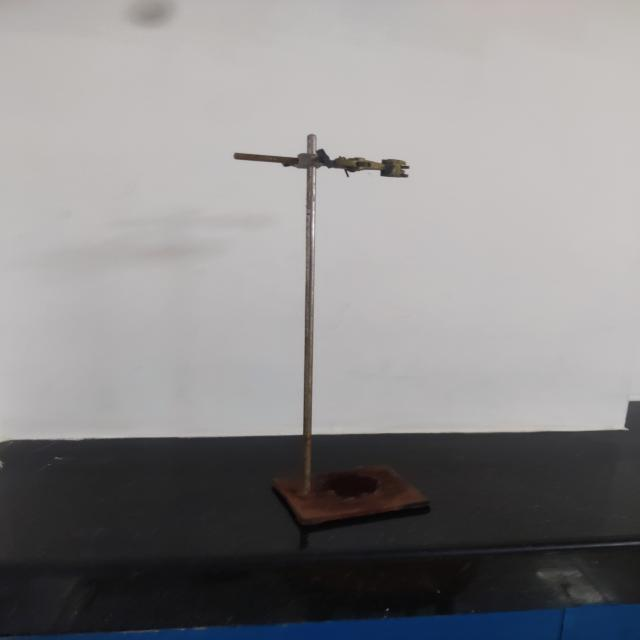Burette_Stands: (193, 82, 477, 558)
